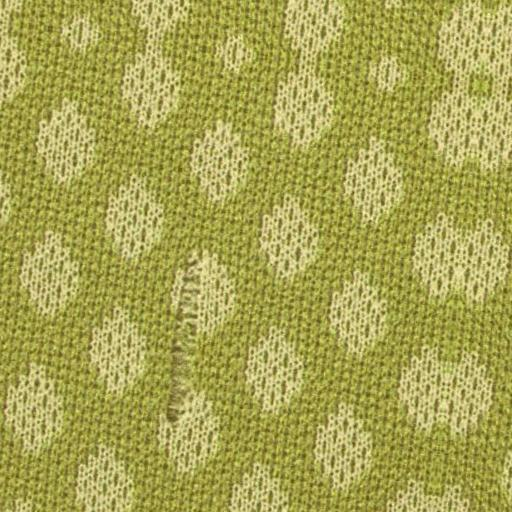slub: (163, 259, 204, 426)
